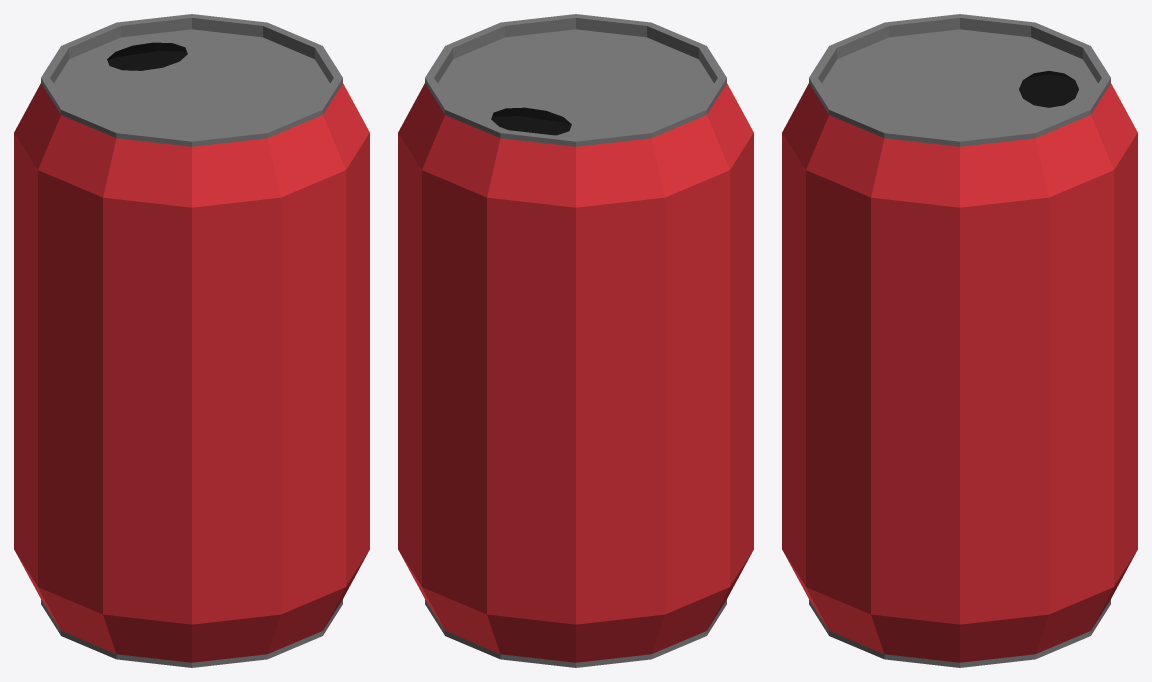
Rendered from can.fbx.
The picture shows the model from 3 angles, left to right: view 1: azimuth 30°, elevation 25°; view 2: azimuth 150°, elevation 25°; view 3: azimuth 270°, elevation 25°; orthographic projection.
Parts seen in each view (by area): view 1: Cylinder; view 2: Cylinder; view 3: Cylinder.
Part boxes in pixels (x1,y1,x2,y2): Cylinder: (14,14,369,667); Cylinder: (398,14,753,667); Cylinder: (782,14,1137,667).
Bounding box in the file's own units: 200 × 326 × 200.
